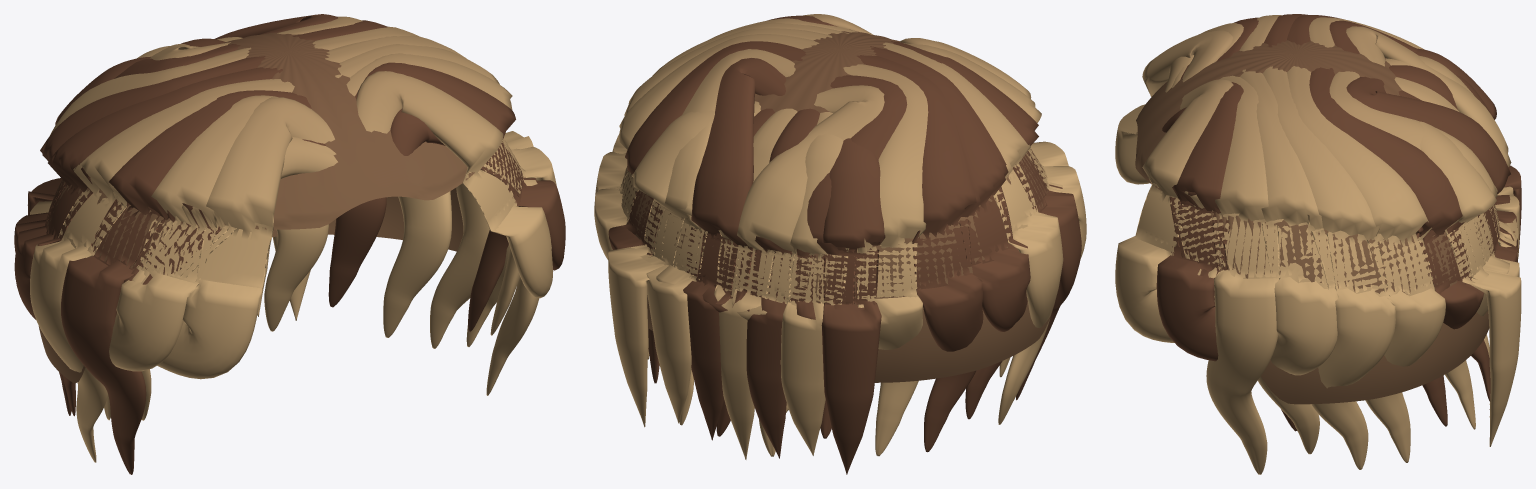
Rendered from Highlights-de739ea9e4c5251-hair.glb.
The picture shows the model from 3 angles, left to right: view 1: azimuth 30°, elevation 25°; view 2: azimuth 150°, elevation 25°; view 3: azimuth 270°, elevation 25°; orthographic projection. The views are drawn at different scales.
Visible parts, largest first — view 1: 226 hair / Hair / main251.001, 226 hair / Hair / accent251.001, 226 hair / Hair / recessed roots251.001; view 2: 226 hair / Hair / main251.001, 226 hair / Hair / accent251.001, 226 hair / Hair / recessed roots251.001; view 3: 226 hair / Hair / main251.001, 226 hair / Hair / accent251.001, 226 hair / Hair / recessed roots251.001.
Part boxes in pixels (x1,y1,x2,y2): 226 hair / Hair / main251.001: (14, 14, 565, 474); 226 hair / Hair / accent251.001: (30, 16, 556, 462); 226 hair / Hair / recessed roots251.001: (38, 32, 522, 383); 226 hair / Hair / main251.001: (595, 15, 1081, 474); 226 hair / Hair / accent251.001: (594, 14, 1086, 459); 226 hair / Hair / recessed roots251.001: (622, 31, 1054, 382); 226 hair / Hair / main251.001: (1115, 14, 1521, 469); 226 hair / Hair / accent251.001: (1115, 15, 1521, 474); 226 hair / Hair / recessed roots251.001: (1135, 40, 1489, 404).
Size of the model in its own units: 1.11 by 0.832 by 0.8722.
